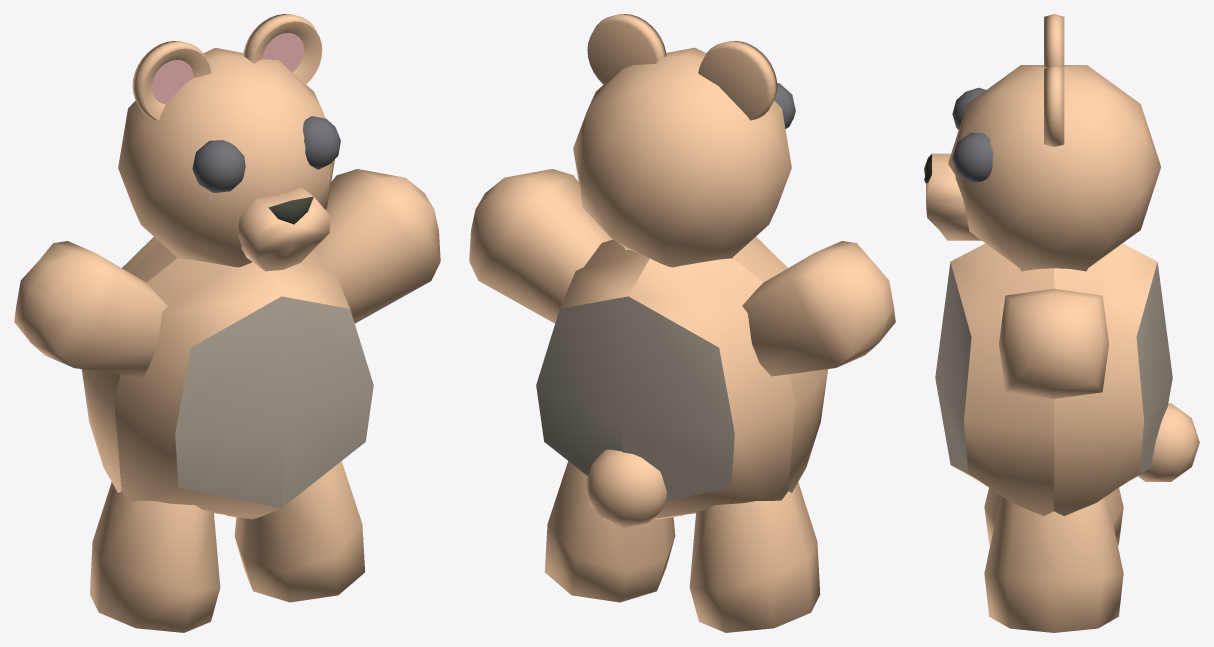
File: player_mesh.fbx
The picture shows the model from 3 angles, left to right: view 1: azimuth 30°, elevation 25°; view 2: azimuth 150°, elevation 25°; view 3: azimuth 270°, elevation 25°; orthographic projection. The views are drawn at different scales.
Visible parts, largest first — view 1: Cube.003, Arm, Leg, Head, Cube, Ear, Cube.001, Icosphere.001, Ear.001, Cube.002; view 2: Head, Cube.003, Arm, Leg, Cube, Ear, Icosphere; view 3: Cube, Head, Leg, Arm, Cube.003, Icosphere, Ear, Cube.001, Icosphere.001.
Boxes of the visible parts, x1=… form: Cube.003: x1=175, y1=296, x2=373, y2=508; Arm: x1=14, y1=169, x2=440, y2=376; Leg: x1=89, y1=461, x2=364, y2=632; Head: x1=118, y1=47, x2=334, y2=267; Cube: x1=81, y1=237, x2=349, y2=519; Ear: x1=132, y1=14, x2=322, y2=120; Cube.001: x1=238, y1=187, x2=330, y2=271; Icosphere.001: x1=192, y1=116, x2=340, y2=192; Ear.001: x1=152, y1=33, x2=303, y2=104; Cube.002: x1=268, y1=196, x2=313, y2=224; Head: x1=573, y1=47, x2=791, y2=267; Cube.003: x1=536, y1=296, x2=734, y2=500; Arm: x1=469, y1=169, x2=895, y2=376; Leg: x1=544, y1=461, x2=820, y2=632; Cube: x1=560, y1=237, x2=828, y2=519; Ear: x1=587, y1=14, x2=777, y2=120; Icosphere: x1=585, y1=449, x2=666, y2=527; Cube: x1=950, y1=243, x2=1157, y2=515; Head: x1=948, y1=65, x2=1160, y2=271; Leg: x1=984, y1=487, x2=1123, y2=632; Arm: x1=999, y1=288, x2=1108, y2=398; Cube.003: x1=935, y1=262, x2=1172, y2=472; Icosphere: x1=1137, y1=403, x2=1199, y2=481; Ear: x1=1044, y1=14, x2=1064, y2=146; Cube.001: x1=926, y1=153, x2=981, y2=240; Icosphere.001: x1=952, y1=87, x2=993, y2=183.
Size of the model in its own units: 423 by 560 by 257.
